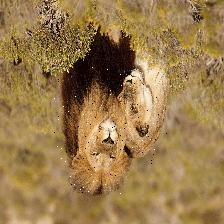Lion: (53, 65, 124, 195), (117, 51, 166, 165)
